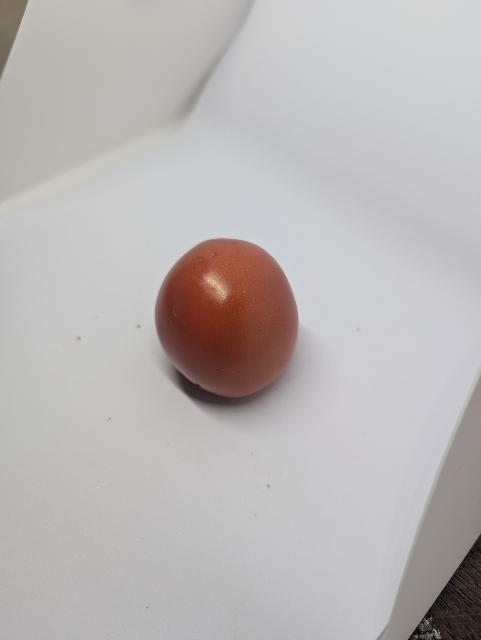red: (152, 234, 305, 400)
